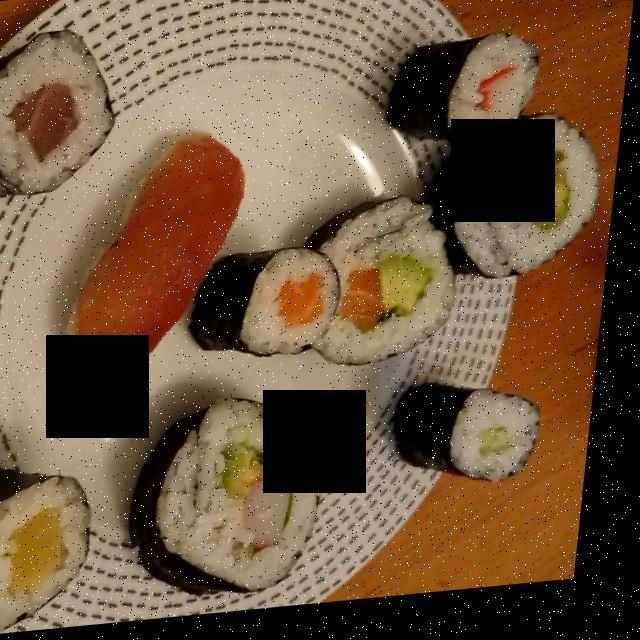sushi: (0, 34, 599, 627)
